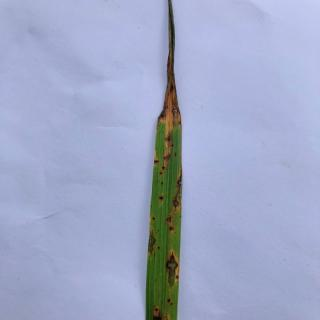Blast: (156, 67, 187, 126), (164, 248, 182, 284), (160, 127, 180, 156), (141, 232, 161, 255), (170, 169, 191, 190), (155, 157, 173, 177), (164, 218, 176, 233), (151, 304, 162, 318), (155, 189, 165, 204), (164, 212, 174, 225), (160, 309, 172, 319)
